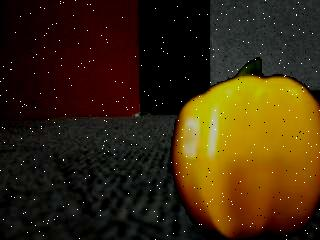Capsicum: (170, 58, 320, 240)
